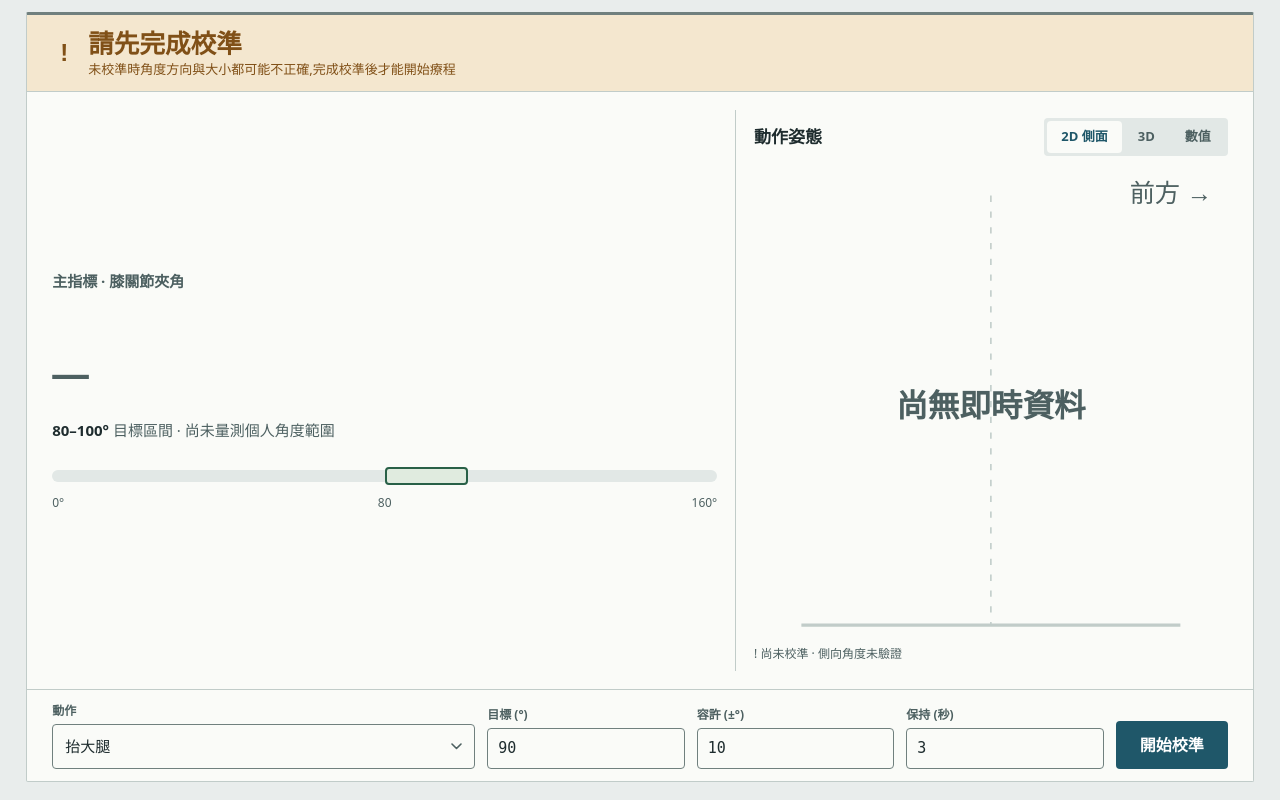
DashboardView 校準 › 尚未校準時顯示警示並擋下開始療程,按鈕改為開始校準並開啟精靈
(page scrolled)
Expected: the text "請先完成校準" is shown, [88,26,242,60]
Click the button "開始校準".
click(1172, 745)  # box [1116,721,1228,769]
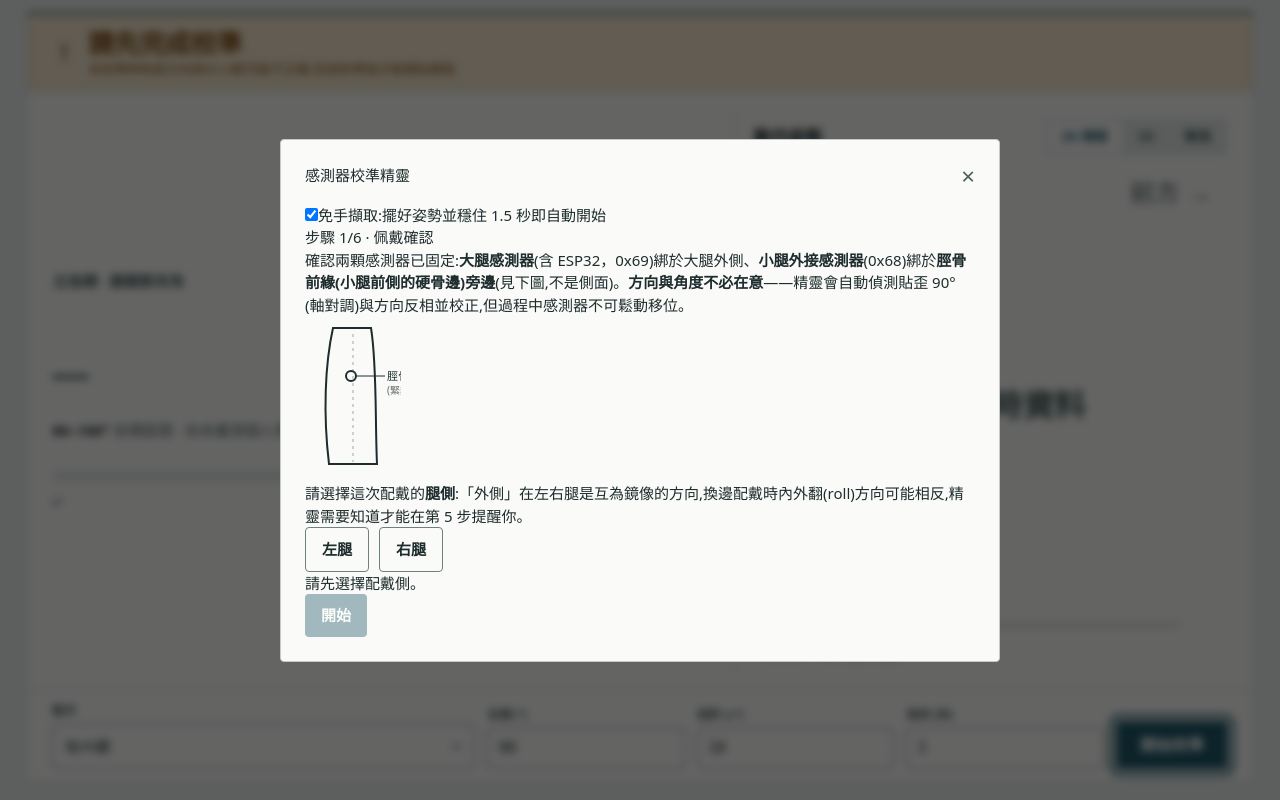
Expected: the heading "感測器校準精靈" is shown, [305,164,410,187]
